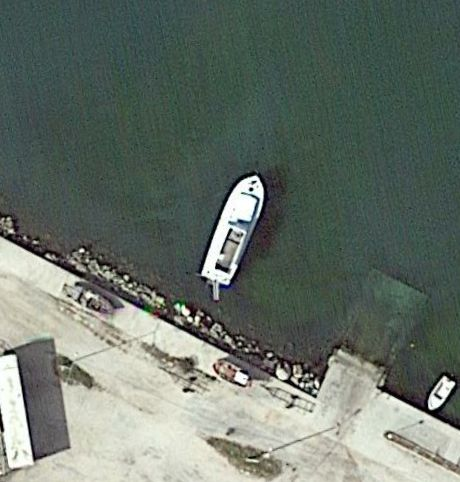boat: (198, 170, 269, 292), (425, 369, 457, 414)
